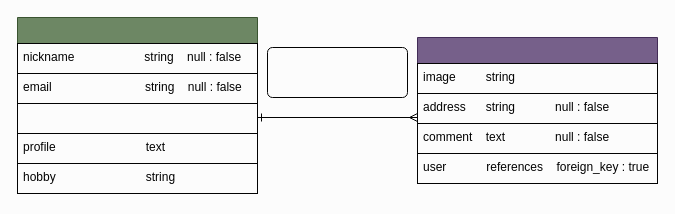
This 675x214 diagram has some shape labels left out. Each missing label, with the box of its shape:
belongs_to :user has_many :items: (266, 46, 408, 98)
encrypted_password string null : false: (16, 102, 258, 134)
posts: (416, 36, 658, 184)
users: (16, 16, 258, 194)
